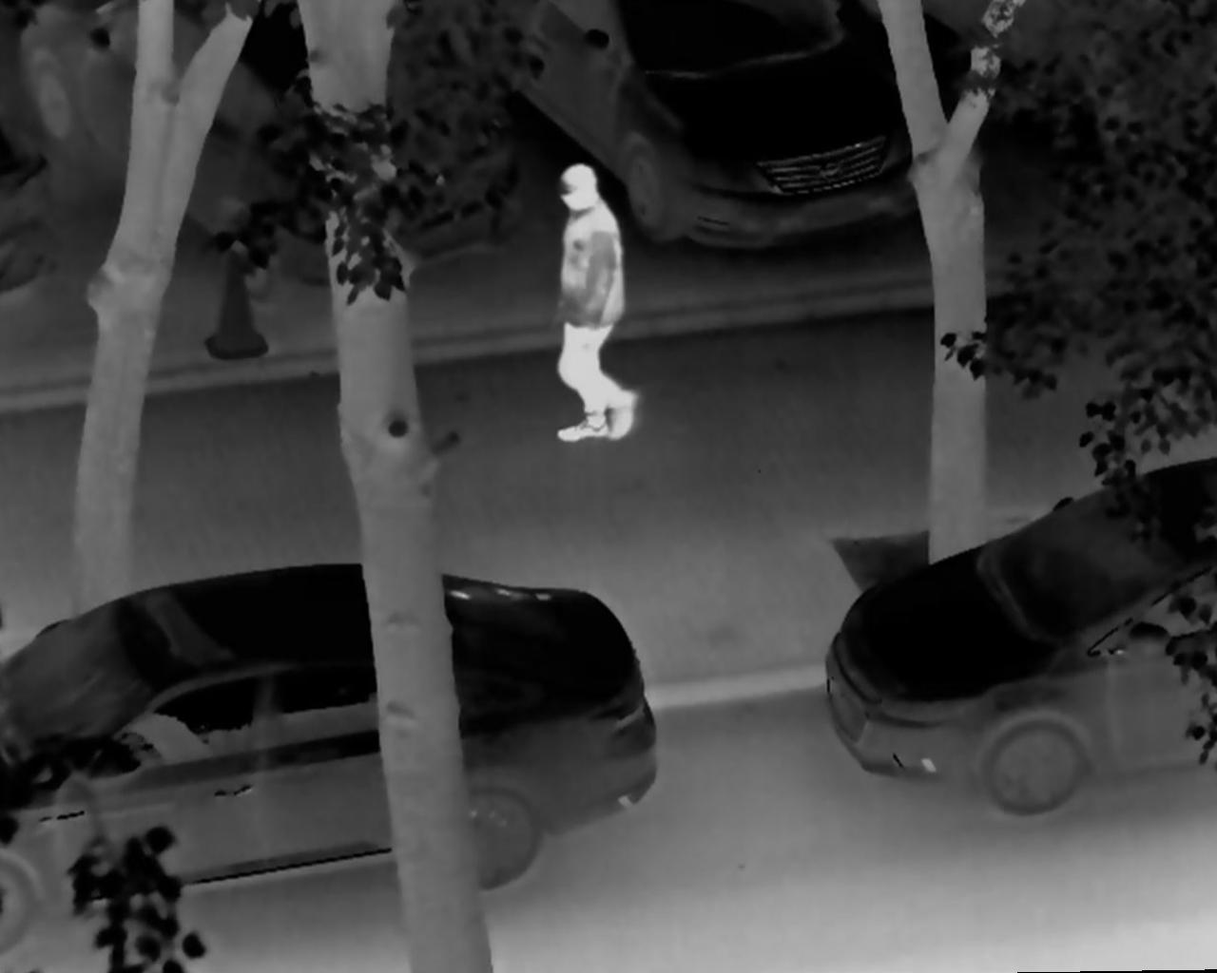person: (513, 165, 647, 448)
